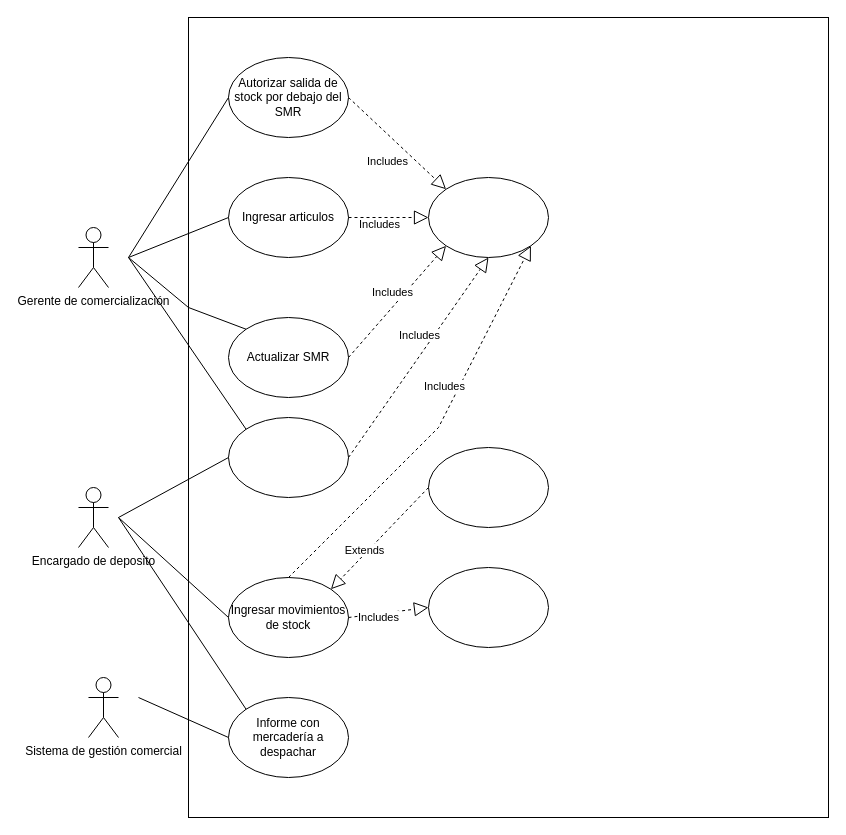
This 846x835 diagram has some shape labels left out. Each missing label, with the box of its shape:
Actualizar saldo de stock: (428, 566, 548, 648)
Iniciar sesión: (428, 176, 548, 258)
Notificar al gerente: (428, 446, 548, 528)
Ver listado de stock: (228, 416, 348, 498)
